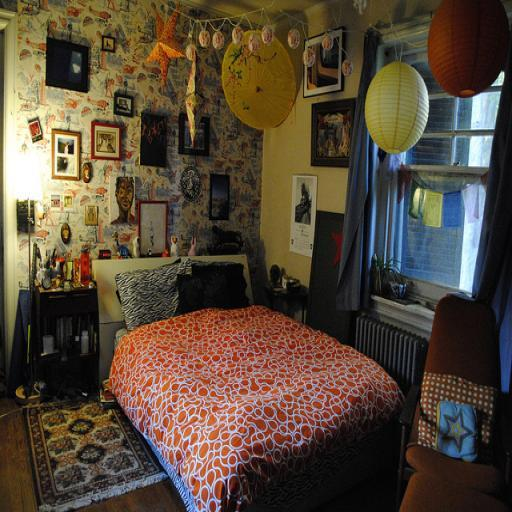bed: (85, 238, 410, 508)
